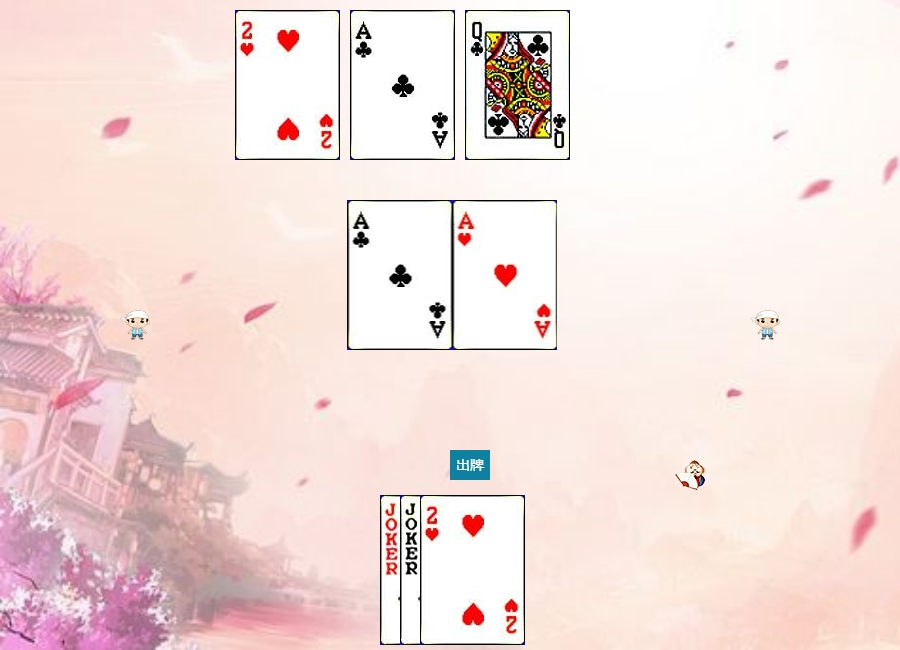12~2: (465, 10, 570, 160)
14~2: (350, 10, 455, 160), (348, 200, 453, 350)
14~3: (453, 200, 558, 350)
15~3: (235, 10, 340, 160), (420, 495, 525, 645)
17~3: (400, 495, 505, 645)
18~4: (380, 495, 485, 645)
